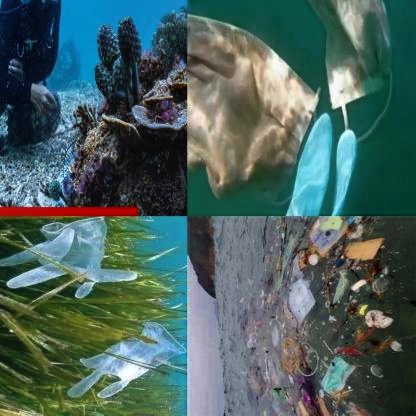Mask: (187, 10, 318, 212), (308, 0, 395, 142), (316, 356, 360, 399)
glove: (0, 216, 145, 302), (64, 320, 186, 403), (286, 112, 356, 216)
